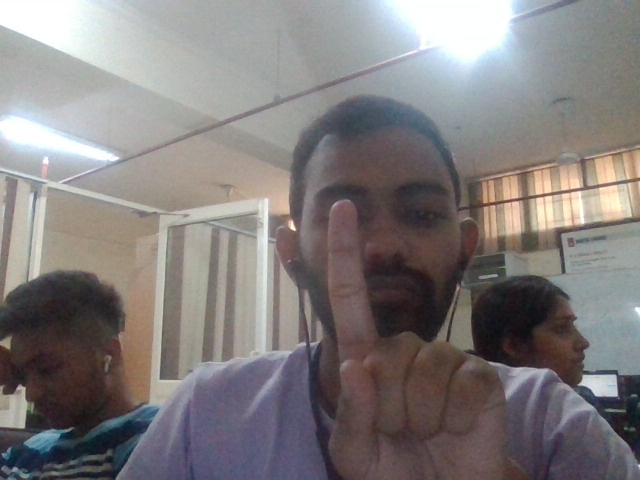Present: (326, 198, 509, 480)
